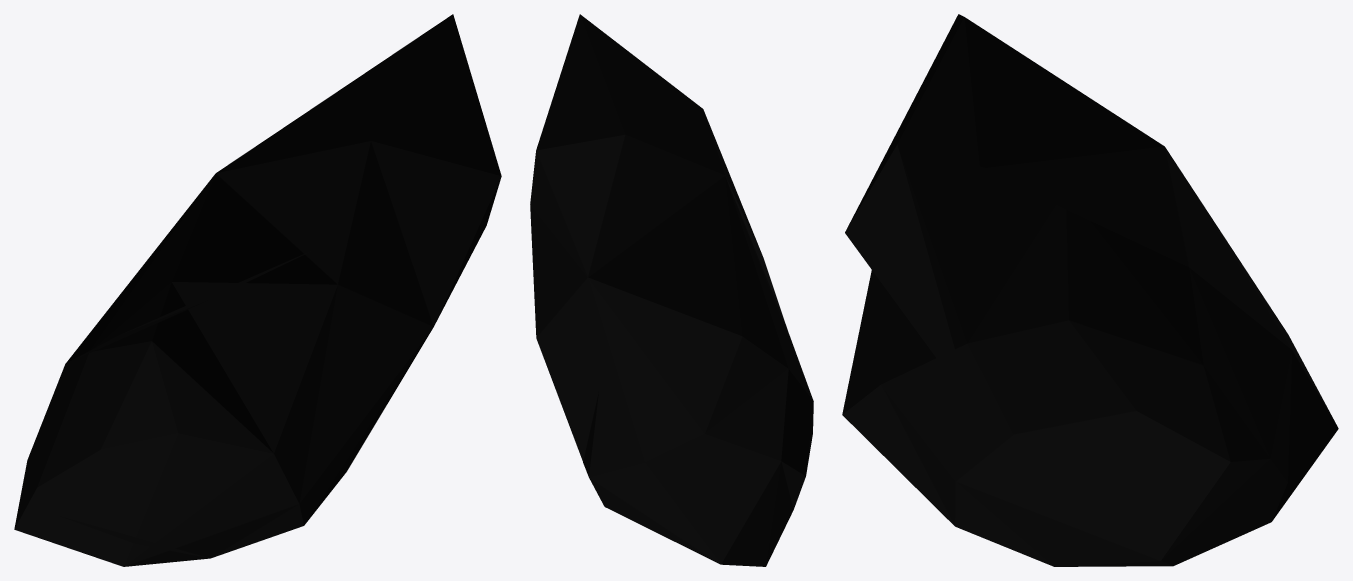
3 views of the same model, side by side, from view 1: azimuth 30°, elevation 25°; view 2: azimuth 150°, elevation 25°; view 3: azimuth 270°, elevation 25° (orthographic). The views are drawn at different scales.
Size of the model in its own units: 0.4187 by 0.574 by 0.3673.
Materials: 1 (1 with a texture image).
